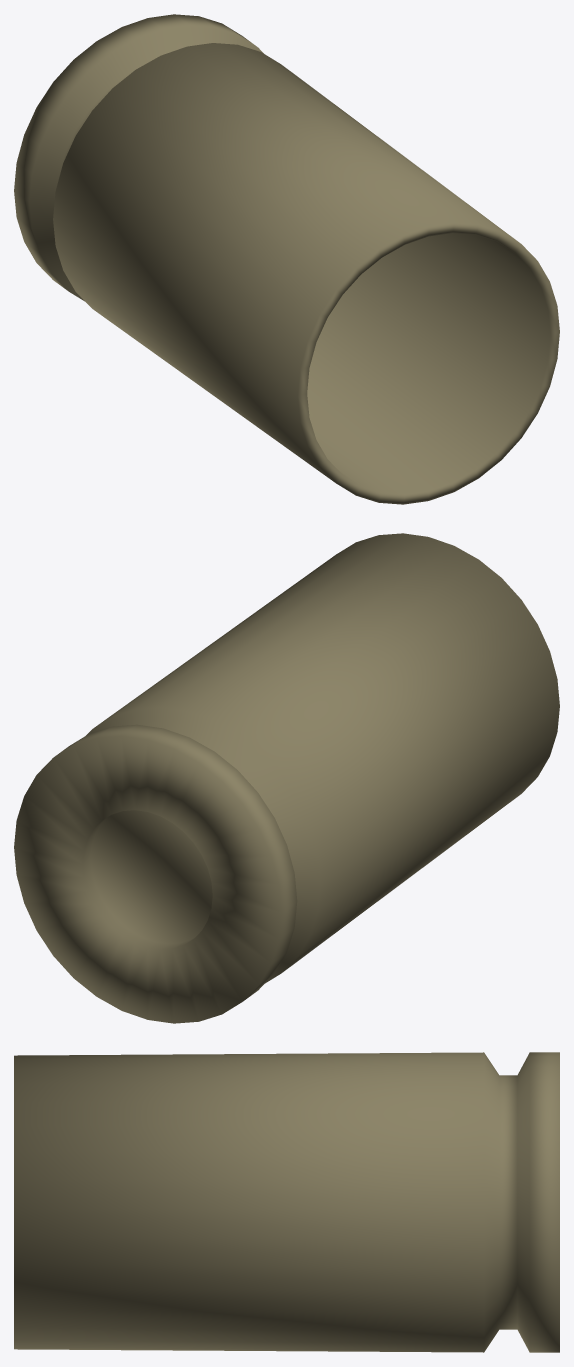
Rendered from casing_9x18.glb.
The picture shows the model from 3 angles, top to bottom: view 1: azimuth 30°, elevation 25°; view 2: azimuth 150°, elevation 25°; view 3: azimuth 270°, elevation 25°; orthographic projection. The views are drawn at different scales.
Visible parts, largest first — view 1: casing_9x18; view 2: casing_9x18; view 3: casing_9x18.
Boxes of the visible parts, box(x1,y1,x2,y2) form: casing_9x18: box(14, 14, 559, 504); casing_9x18: box(14, 533, 559, 1023); casing_9x18: box(14, 1052, 559, 1352).
Bounding box in the file's own units: 0.0099 × 0.0099 × 0.018.
